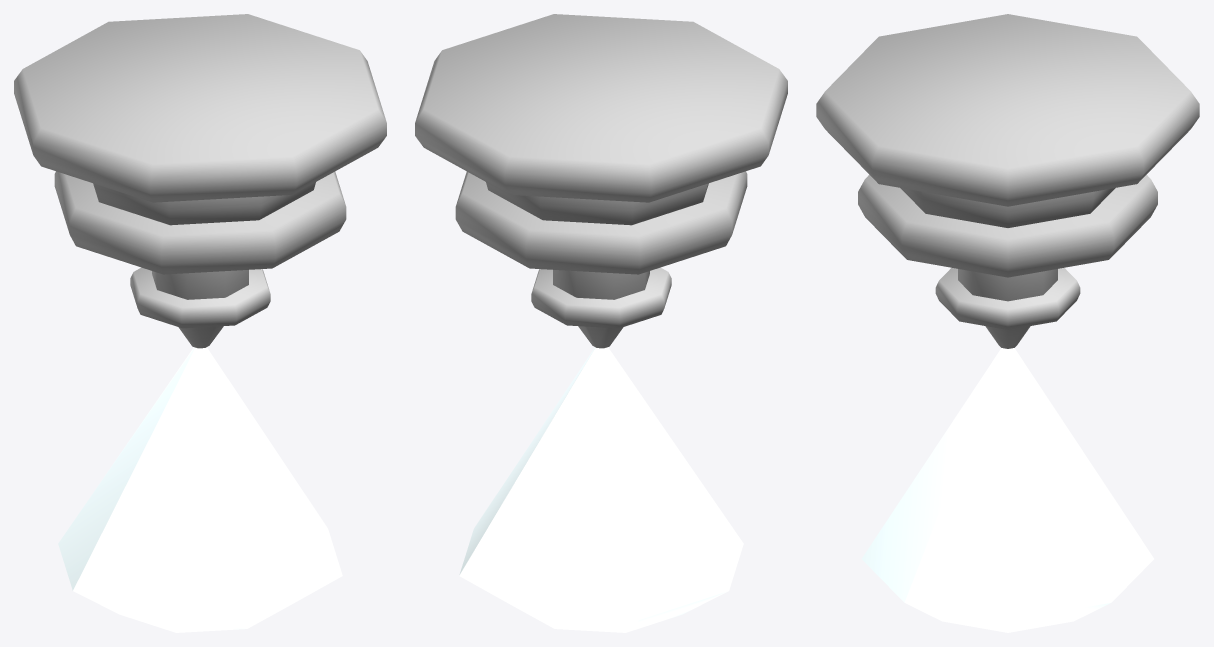
File: stone_pommel_211.glb
The picture shows the model from 3 angles, left to right: view 1: azimuth 30°, elevation 25°; view 2: azimuth 150°, elevation 25°; view 3: azimuth 270°, elevation 25°; orthographic projection.
Visible parts, largest first — view 1: stone_pommel.211; view 2: stone_pommel.211; view 3: stone_pommel.211.
Part boxes in pixels (x1,y1,x2,y2): stone_pommel.211: (14, 14, 386, 632); stone_pommel.211: (415, 14, 787, 632); stone_pommel.211: (816, 14, 1199, 632).
Bounding box in the file's own units: 1.76 × 2.54 × 1.76.
1 material, 1 textured.
